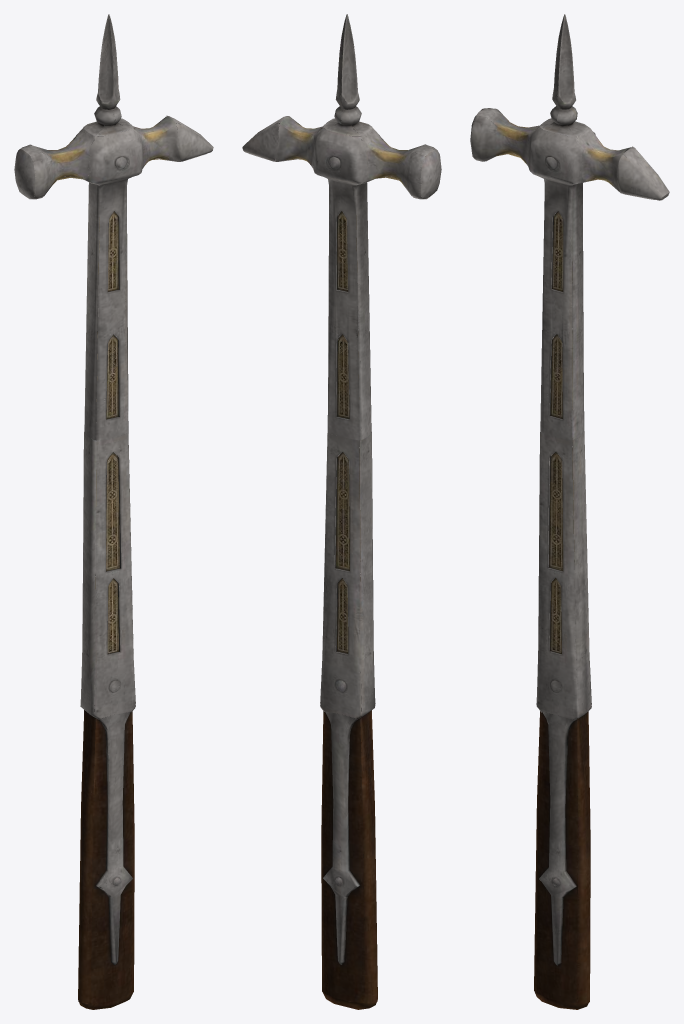
Rendered from war_hammer_ornate.glb.
The picture shows the model from 3 angles, left to right: view 1: azimuth 30°, elevation 25°; view 2: azimuth 150°, elevation 25°; view 3: azimuth 330°, elevation 25°; orthographic projection.
Parts seen in each view (by area): view 1: ornate_war_hammer; view 2: ornate_war_hammer; view 3: ornate_war_hammer.
Part boxes in pixels (left/top/right/bottom): ornate_war_hammer: left=14, top=14, right=213, bottom=1009; ornate_war_hammer: left=242, top=14, right=441, bottom=1009; ornate_war_hammer: left=470, top=14, right=669, bottom=1009.
Size of the model in its own units: 0.1439 by 0.7108 by 0.0345.
Materials: 1 (1 with a texture image).
